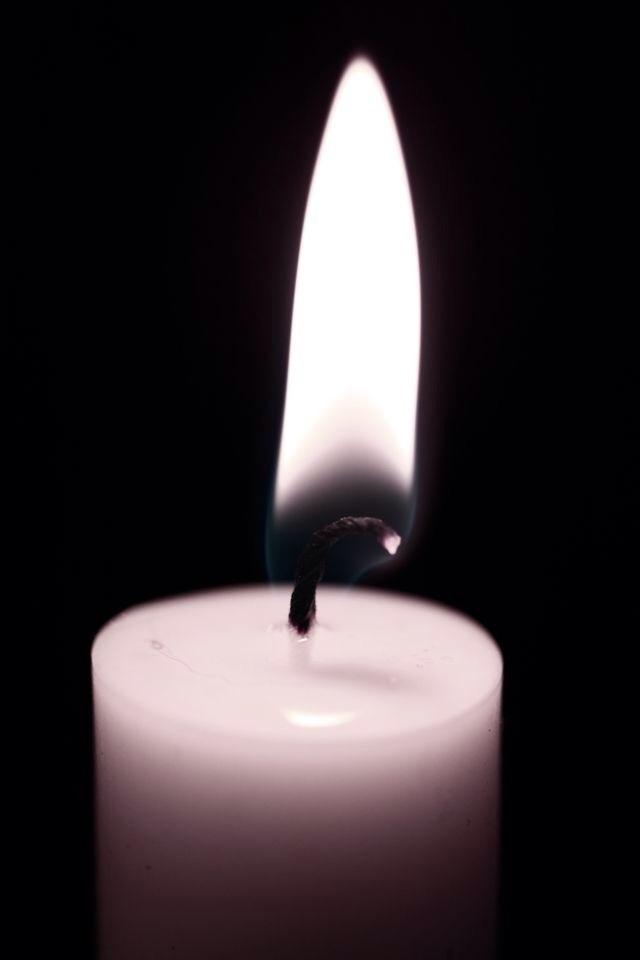fire: (308, 152, 420, 510)
